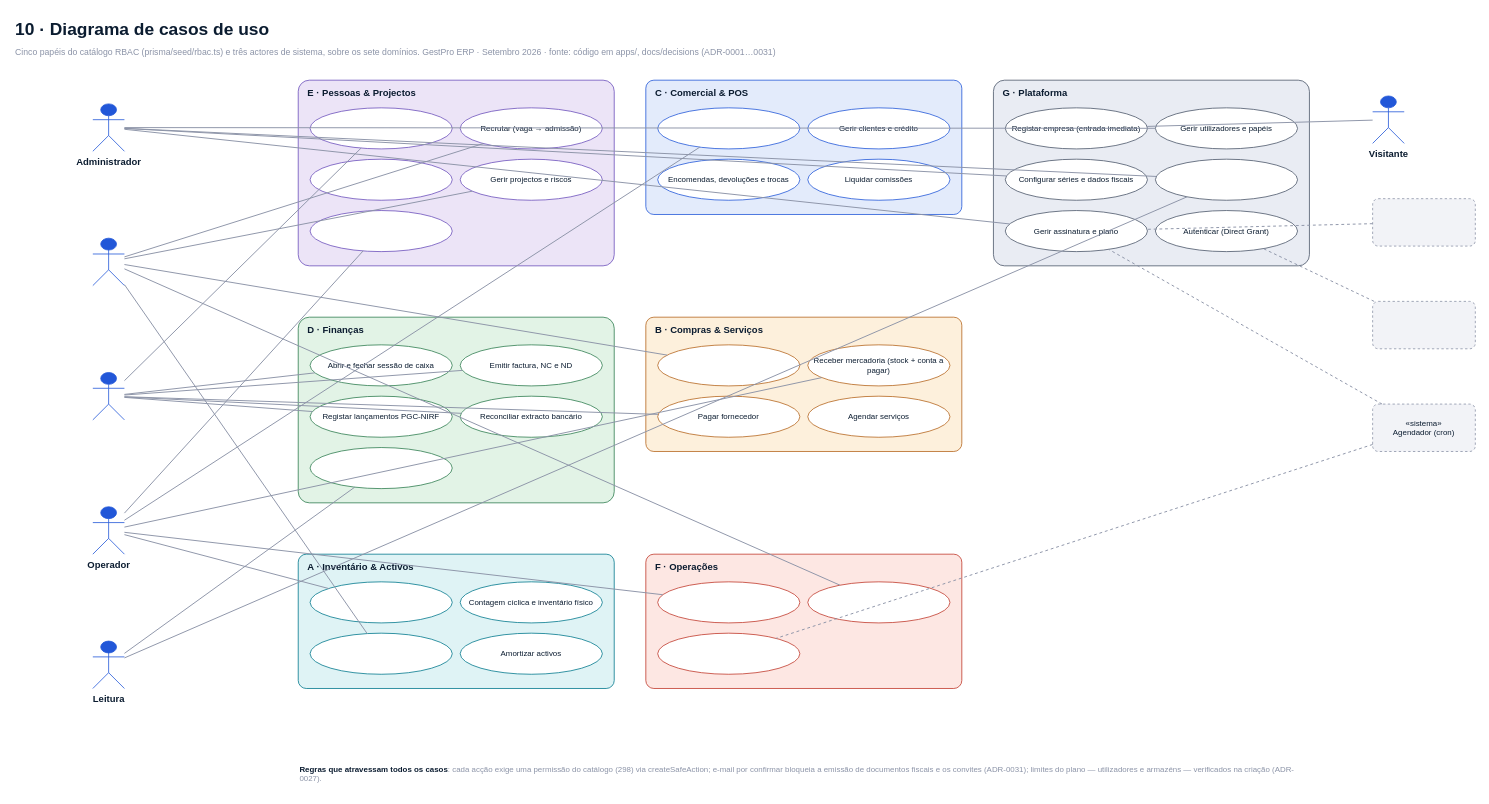
Some shapes in this 1489 by 804 pixel diagram are drawn without their labels. Each missing label, with the centre of its shape:
Alertas de transporte: the point at 728,653
Atender tickets com SLA: the point at 728,602
Consultar auditoria: the point at 1226,179
Emitir ordens de produção: the point at 380,231
Exportar PDF fiscal, CSV e XLSX: the point at 380,468
Financeiro: the point at 108,396
Formações e benefícios: the point at 380,179
Gerir activos e manutenção: the point at 380,653
Gerir frota, rotas e entregas: the point at 878,602
Gestor: the point at 108,261
Movimentar stock: the point at 380,602
Processar salários (INSS/IRPS): the point at 380,128
Requisição → aprovação → pedido: the point at 728,365
Vender no POS: the point at 728,128
«sistema» Keycloak: the point at 1423,325
«sistema» Stripe: the point at 1423,222
